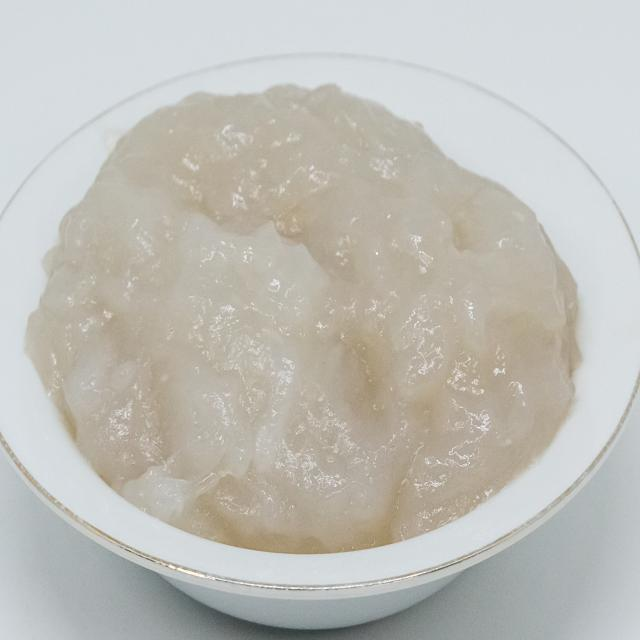Papeda: (23, 74, 591, 578)
